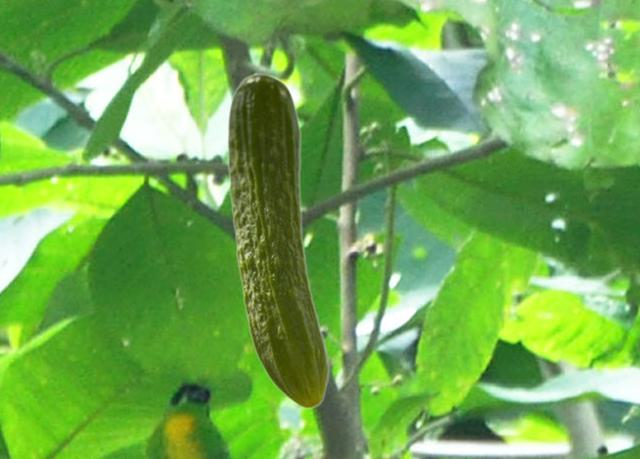cucumber: (226, 72, 329, 409)
